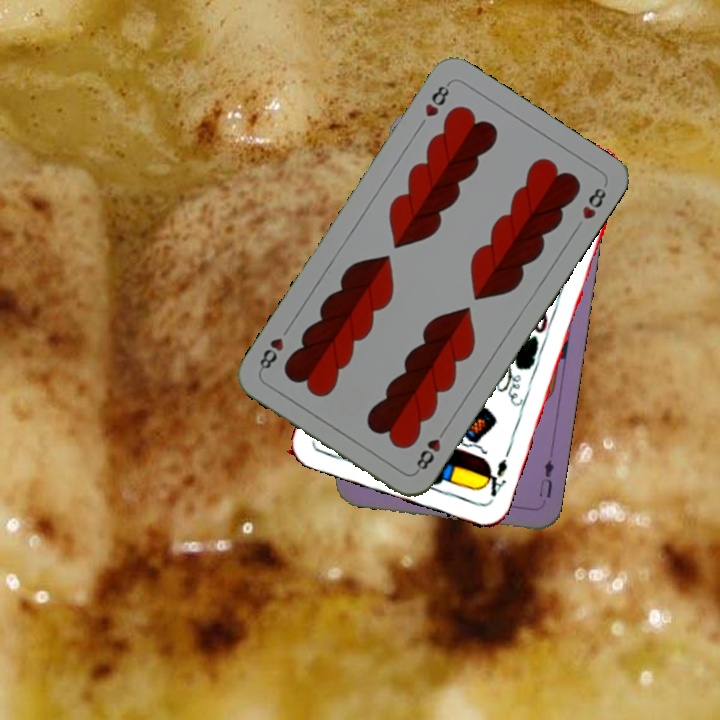EA: (478, 455, 510, 499)
EU: (534, 456, 556, 501)
H8: (411, 423, 450, 475), (420, 78, 453, 120)
